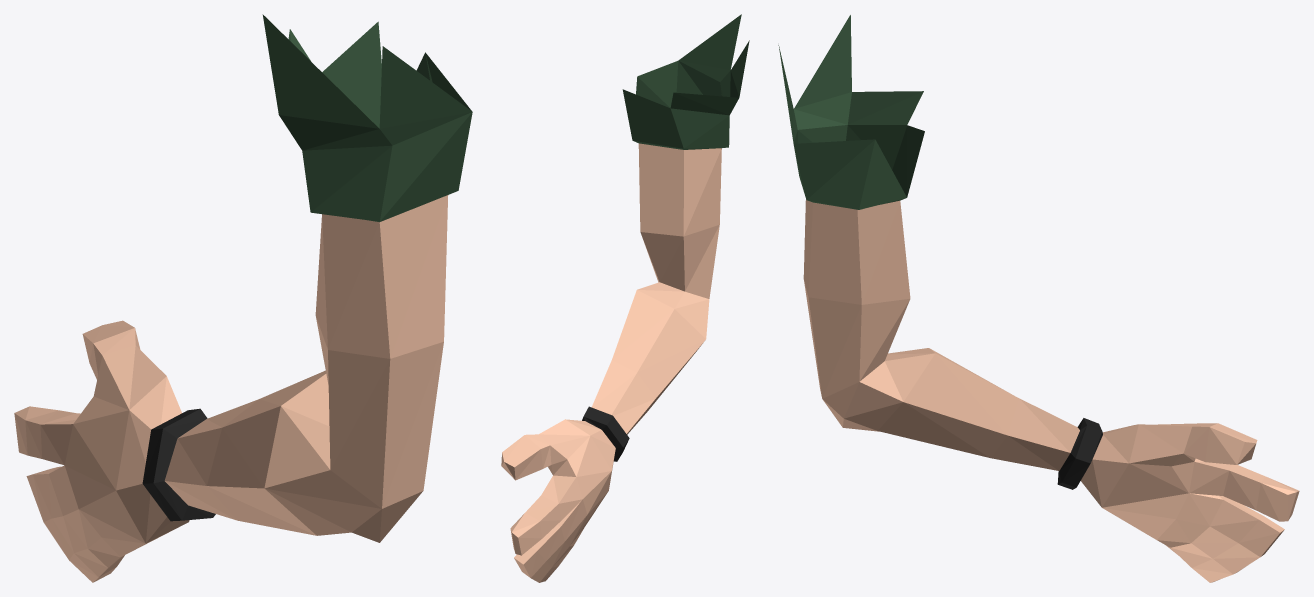
Rendered from ShopKeeper_01_ArmL_66.obj.
3 views of the same model, side by side, from view 1: azimuth 30°, elevation 25°; view 2: azimuth 150°, elevation 25°; view 3: azimuth 270°, elevation 25° (orthographic). The views are drawn at different scales.
Visible parts, largest first — view 1: ShopKeeper_01_ArmL_66; view 2: ShopKeeper_01_ArmL_66; view 3: ShopKeeper_01_ArmL_66.
Part boxes in pixels (left/top/right/bottom): ShopKeeper_01_ArmL_66: left=14, top=14, right=472, bottom=582; ShopKeeper_01_ArmL_66: left=501, top=14, right=749, bottom=582; ShopKeeper_01_ArmL_66: left=778, top=15, right=1299, bottom=582.
Size of the model in its own units: 0.1602 by 0.6448 by 0.5677.
Materials: 1 (1 with a texture image).
